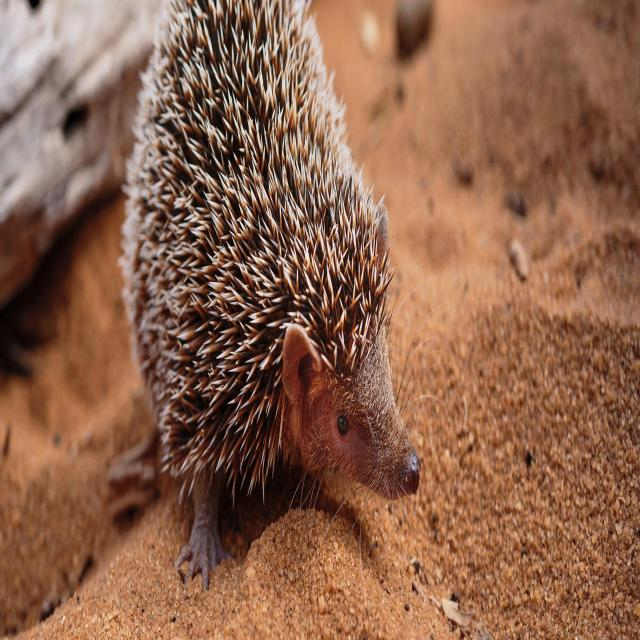Hedgehog: (123, 1, 426, 579)
